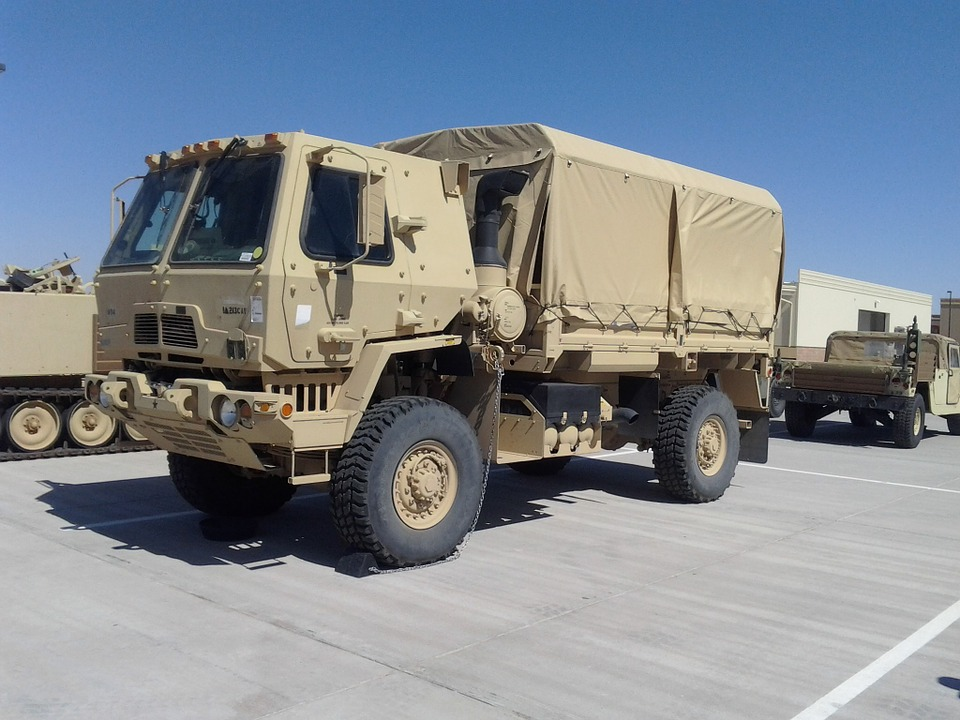camion: (99, 122, 763, 522)
